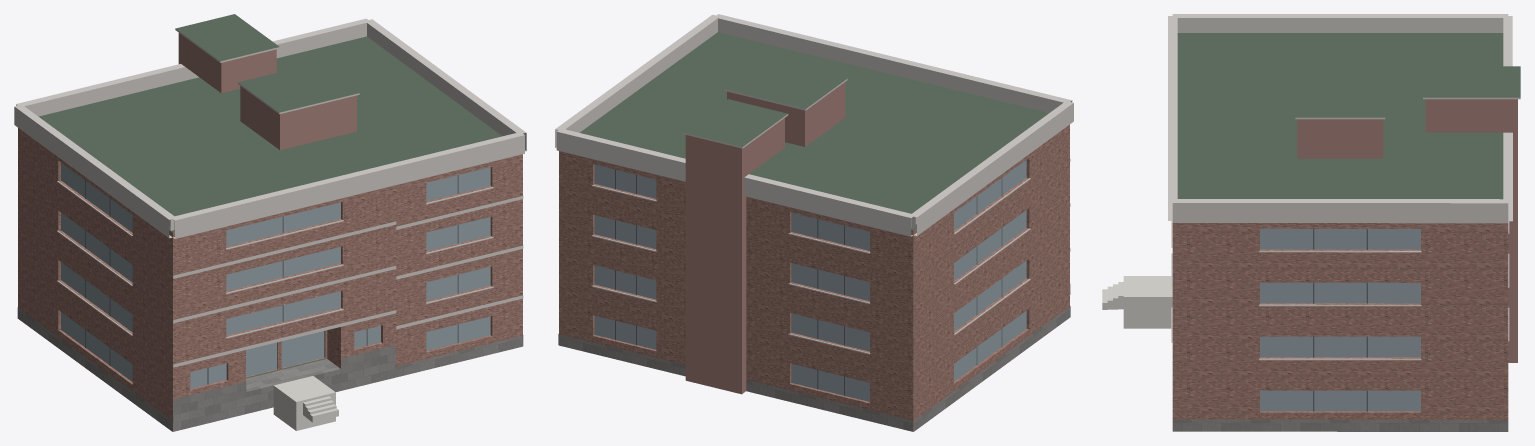
3 renders of one model, left to right at view 1: azimuth 30°, elevation 25°; view 2: azimuth 150°, elevation 25°; view 3: azimuth 270°, elevation 25°, orthographic. The views are drawn at different scales.
Parts seen in each view (by area): view 1: b919C__wall, b919C__roof, b919C__trim, b919C__glass, b919C__base, b919C__wall2, b919C__entranceStair, b919C__frame; view 2: b919C__wall, b919C__roof, b919C__trim, b919C__wall2, b919C__glass, b919C__base, b919C__frame; view 3: b919C__wall, b919C__roof, b919C__trim, b919C__glass, b919C__wall2, b919C__base, b919C__entranceStair.
Part boxes in pixels (x1,y1,x2,y2): b919C__wall: (18, 128, 522, 431); b919C__roof: (38, 14, 501, 431); b919C__trim: (14, 18, 526, 367); b919C__glass: (61, 163, 490, 388); b919C__base: (17, 307, 523, 431); b919C__wall2: (178, 33, 356, 150); b919C__entranceStair: (273, 376, 338, 430); b919C__frame: (85, 175, 458, 384); b919C__wall: (559, 124, 1069, 431); b919C__roof: (580, 32, 1048, 431); b919C__trim: (555, 14, 1073, 354); b919C__wall2: (685, 82, 845, 394); b919C__glass: (594, 160, 1026, 401); b919C__base: (558, 284, 1070, 431); b919C__frame: (615, 170, 1002, 395); b919C__wall: (1172, 223, 1508, 419); b919C__roof: (1177, 33, 1520, 431); b919C__trim: (1168, 14, 1520, 360); b919C__glass: (1260, 228, 1420, 411); b919C__wall2: (1297, 99, 1517, 362); b919C__base: (1172, 419, 1508, 431); b919C__entranceStair: (1102, 276, 1172, 328).
Bounding box in the file's own units: 27.1 × 18.32 × 25.31.
9 materials, 2 textured.
